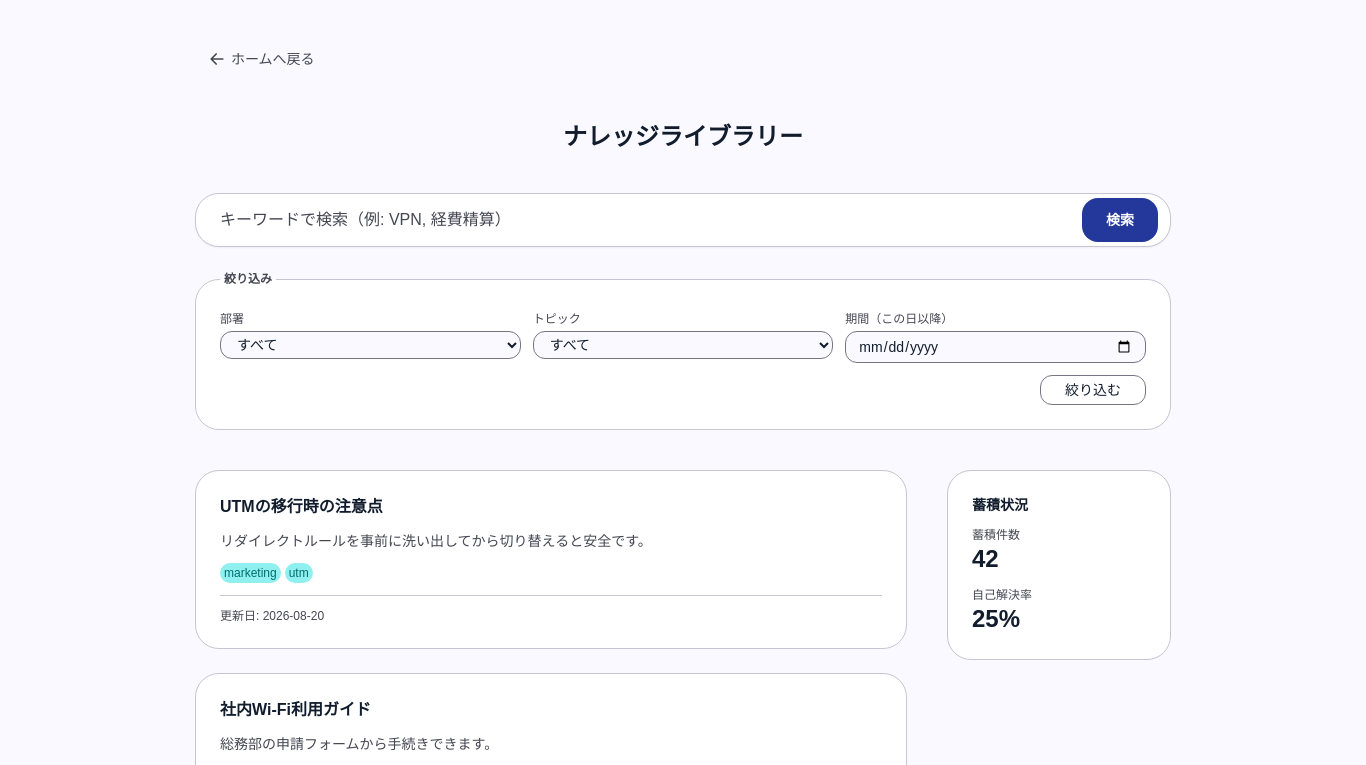
Test: KnowledgeScreen › paginates 5 at a time, browsing included
Expected: the heading "UTMの移行時の注意点" is shown, x1=220 y1=498 x2=383 y2=515
Step 1. Type "質問" into the search field with placeholder "キーワードで検索（例: VPN, 経費精算）" → x=643, y=220, box x1=208 y1=200 x2=1078 y2=240
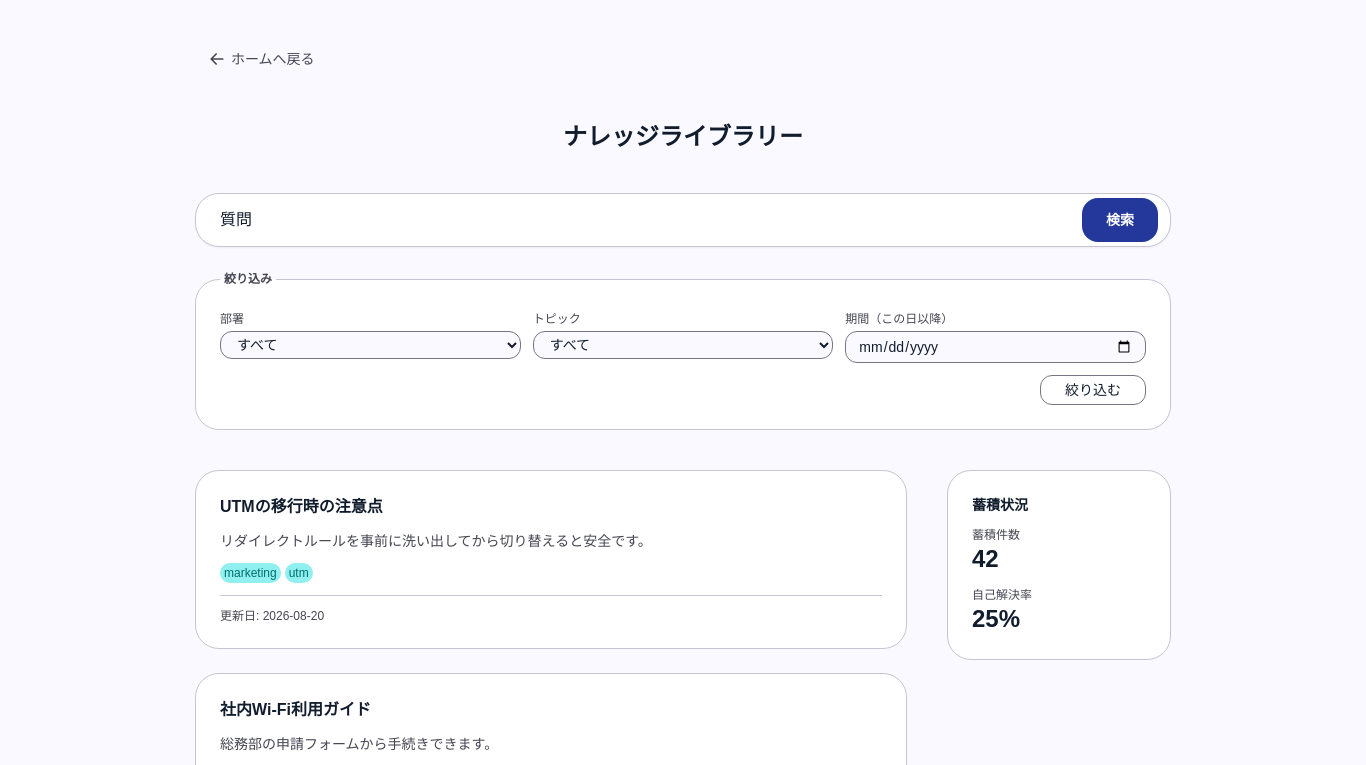
Step 2. Click the button "検索" → x=1120, y=220, box x1=1082 y1=198 x2=1158 y2=242
(page scrolled)
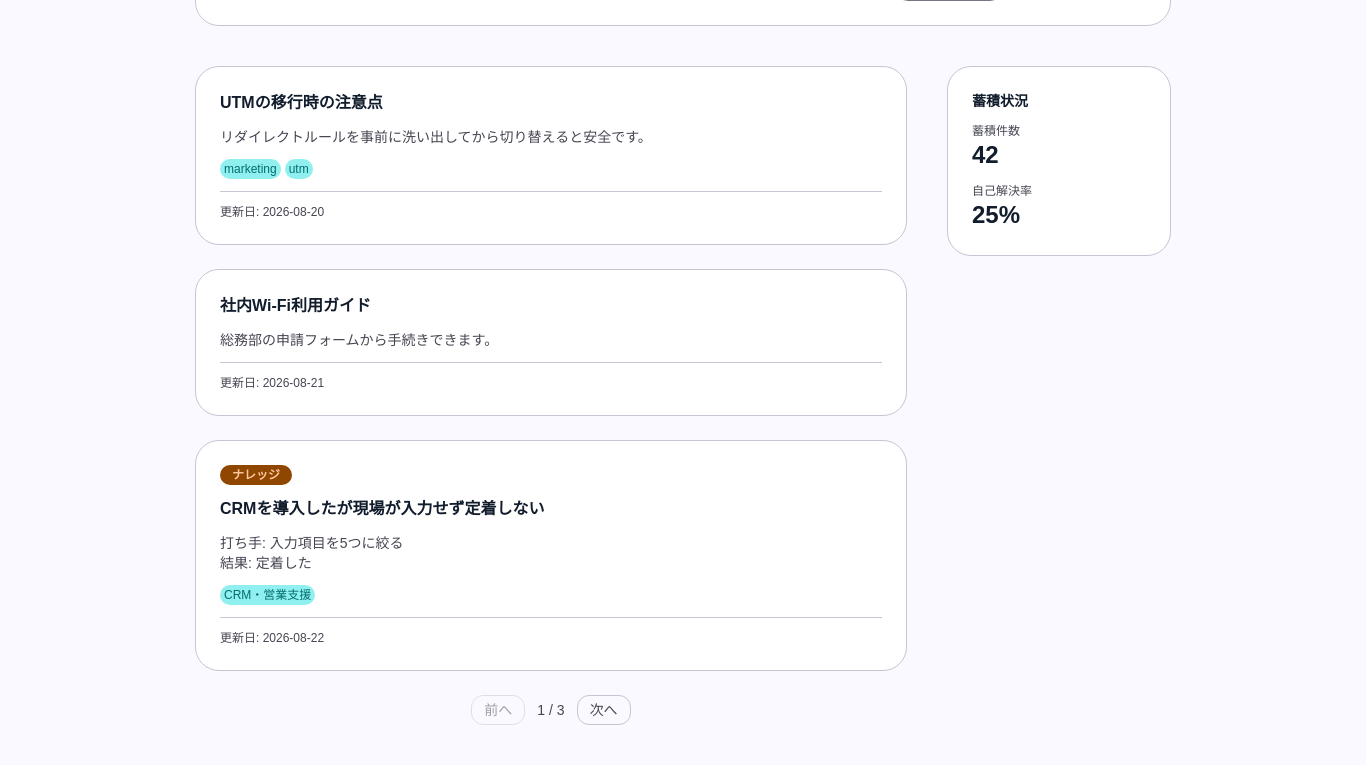
Expected: the text "1 / 3" is shown, x1=537 y1=700 x2=565 y2=720
Expected: the button "前へ" is disabled, x1=471 y1=695 x2=525 y2=725
Step 3. Click the button "次へ" → x=604, y=710, box x1=577 y1=695 x2=631 y2=725
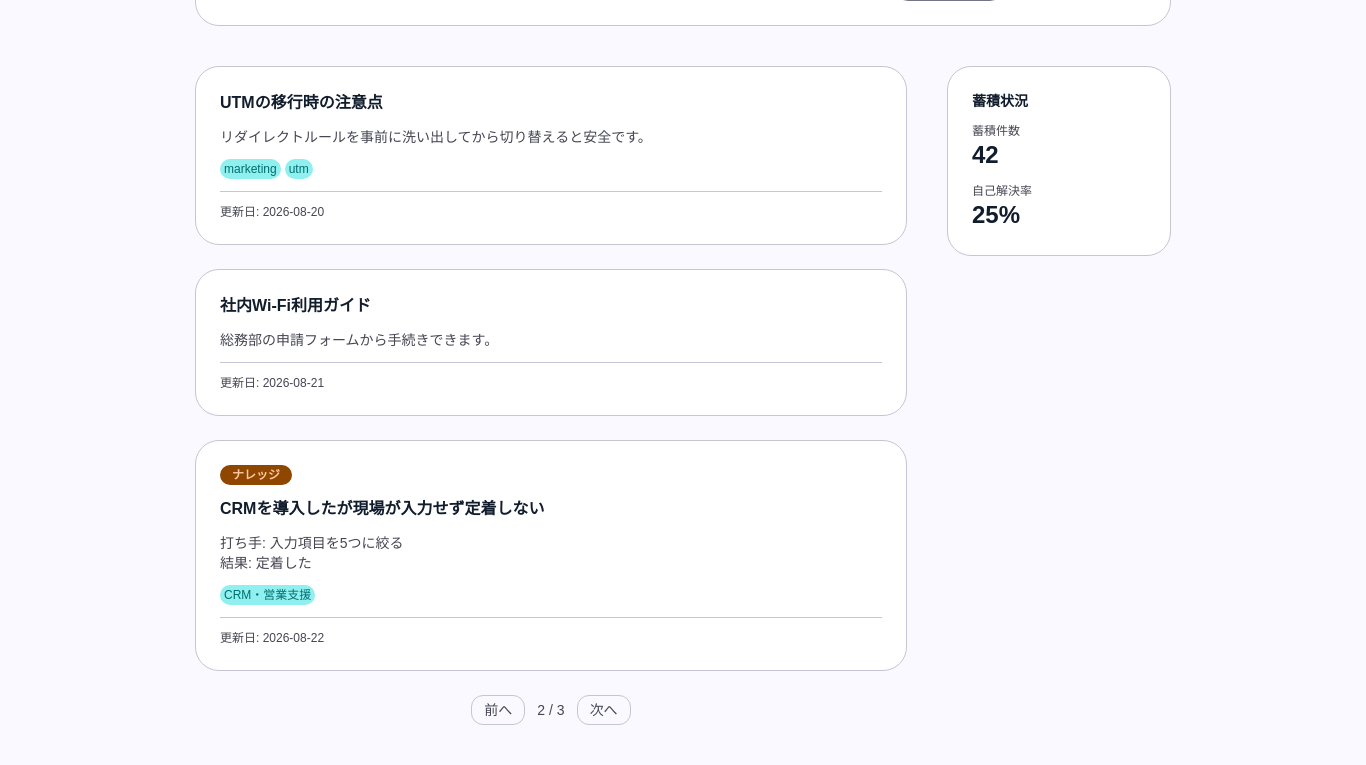
Expected: the text "2 / 3" is shown, x1=537 y1=700 x2=565 y2=720
Expected: the button "前へ" is enabled, x1=471 y1=695 x2=525 y2=725
